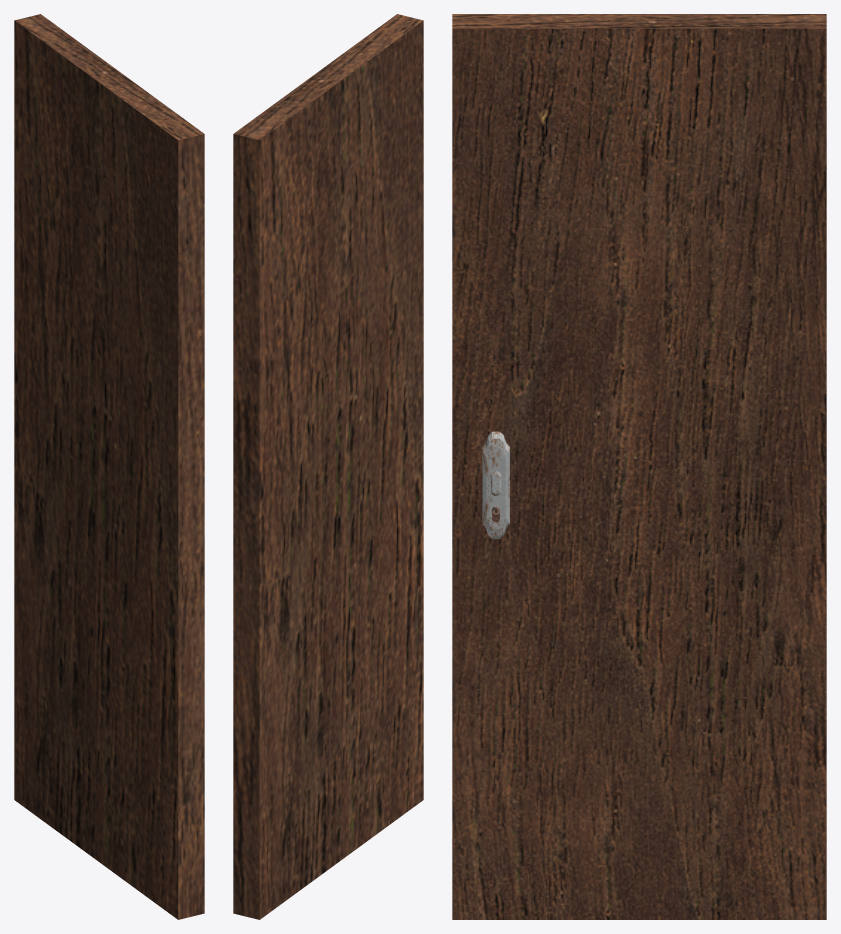
Rendered from door_001.glb.
3 views of the same model, side by side, from view 1: azimuth 30°, elevation 25°; view 2: azimuth 150°, elevation 25°; view 3: azimuth 270°, elevation 25° (orthographic). The views are drawn at different scales.
Visible parts, largest first — view 1: Cube.078; view 2: Cube.078; view 3: Cube.078.
Part boxes in pixels (bbox=[...]): Cube.078: bbox=[14, 14, 204, 919]; Cube.078: bbox=[233, 14, 423, 919]; Cube.078: bbox=[452, 14, 826, 919].
Size of the model in its own units: 0.1 by 2.07 by 0.7898.
Materials: 3 (3 with a texture image).
